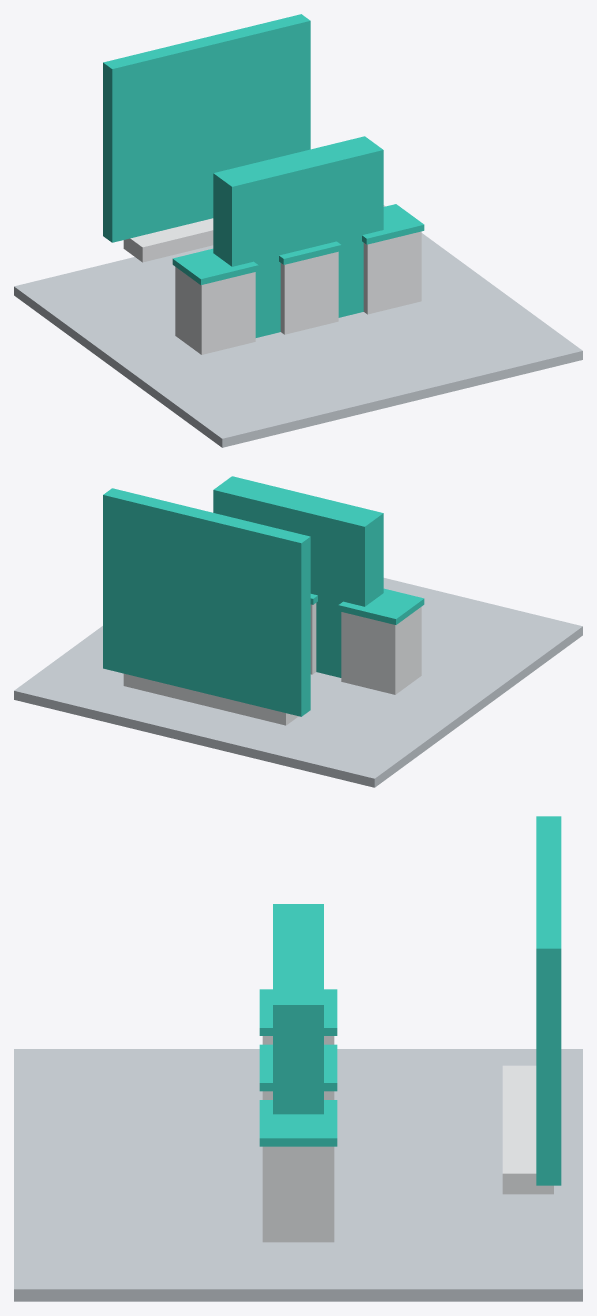
The picture shows the model from 3 angles, top to bottom: view 1: azimuth 30°, elevation 25°; view 2: azimuth 150°, elevation 25°; view 3: azimuth 270°, elevation 25°; orthographic projection. The views are drawn at different scales.
Parts seen in each view (by area): view 1: Exhibition Booth Concept; view 2: Exhibition Booth Concept; view 3: Exhibition Booth Concept.
Boxes of the visible parts, x1,y1,x2,y2 form: Exhibition Booth Concept: (14,14,582,447); Exhibition Booth Concept: (14,476,582,787); Exhibition Booth Concept: (14,816,582,1301).
Size of the model in its own units: 5 by 2.9 by 5.
